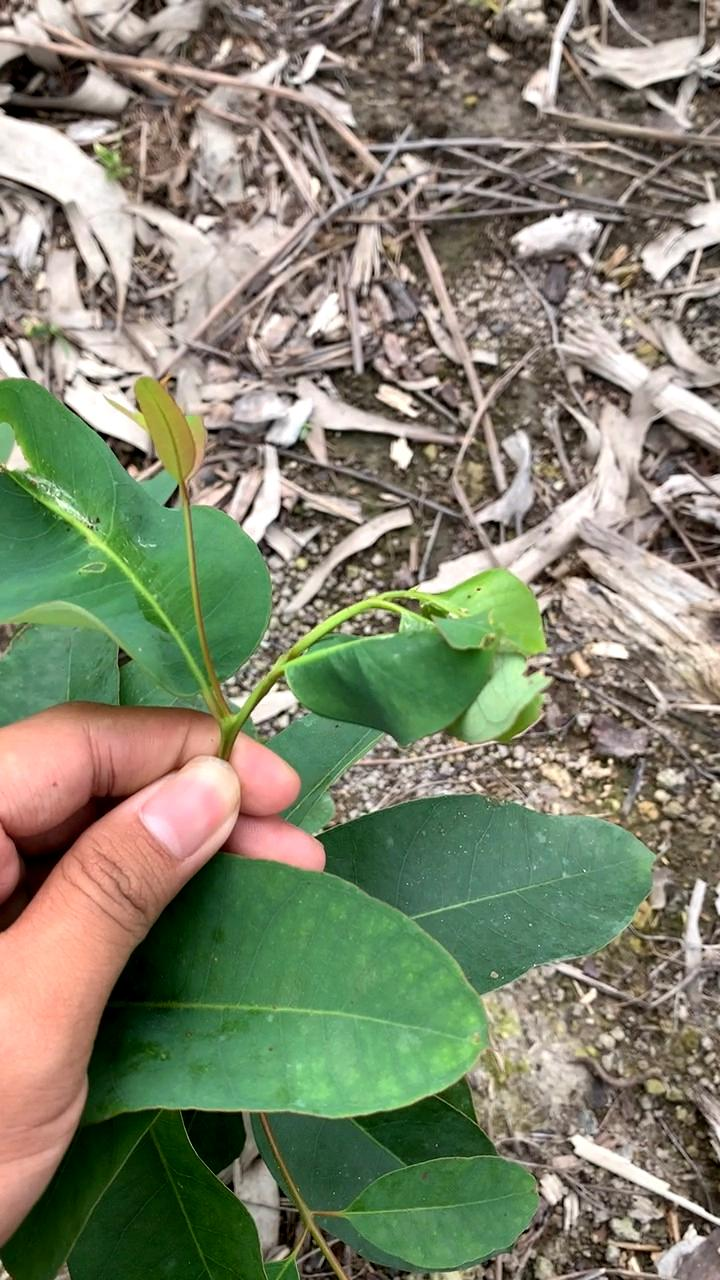Leaf Roller - Leaf: (293, 568, 555, 759)
